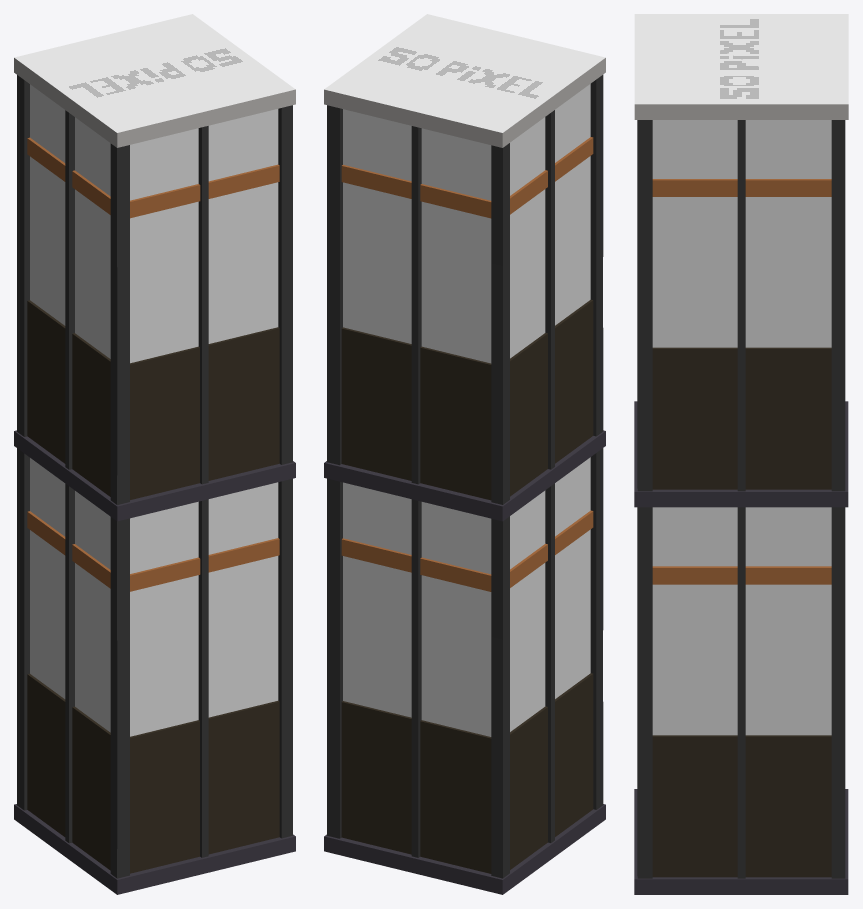
File: building.fbx
3 views of the same model, side by side, from view 1: azimuth 30°, elevation 25°; view 2: azimuth 150°, elevation 25°; view 3: azimuth 270°, elevation 25° (orthographic). The views are drawn at different scales.
Visible parts, largest first — view 1: Cube.046, Cube.055, Cube.448, Cube.056, Cube.048; view 2: Cube.046, Cube.055, Cube.448, Cube.048, Cube.056; view 3: Cube.046, Cube.055, Cube.448, Cube.056, Cube.048.
Part boxes in pixels (bbox=[...]): Cube.046: bbox=[17, 448, 292, 878]; Cube.055: bbox=[17, 75, 292, 504]; Cube.448: bbox=[14, 14, 295, 147]; Cube.056: bbox=[14, 430, 295, 521]; Cube.048: bbox=[14, 804, 295, 894]; Cube.046: bbox=[327, 448, 603, 878]; Cube.055: bbox=[327, 75, 603, 504]; Cube.448: bbox=[324, 14, 605, 147]; Cube.048: bbox=[324, 804, 605, 894]; Cube.056: bbox=[324, 430, 605, 521]; Cube.046: bbox=[637, 507, 845, 878]; Cube.055: bbox=[637, 120, 845, 491]; Cube.448: bbox=[634, 14, 848, 119]; Cube.056: bbox=[634, 401, 848, 507]; Cube.048: bbox=[634, 789, 848, 894].
Bounding box in the file's own units: 500 × 2038 × 500.
7 materials, 1 textured.
